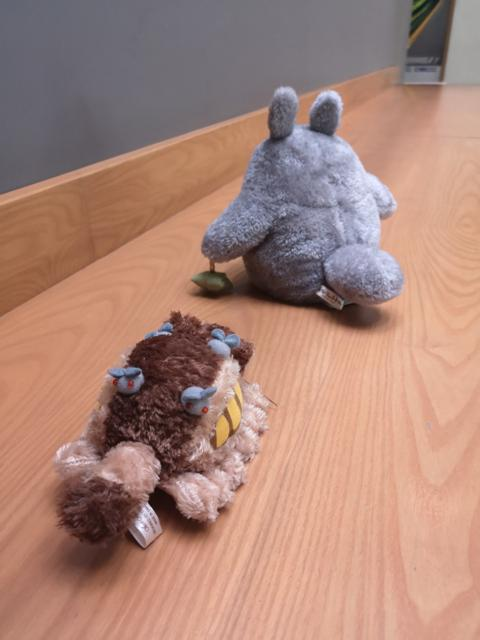nekobus: (49, 305, 277, 554)
totoro: (185, 81, 417, 312)
